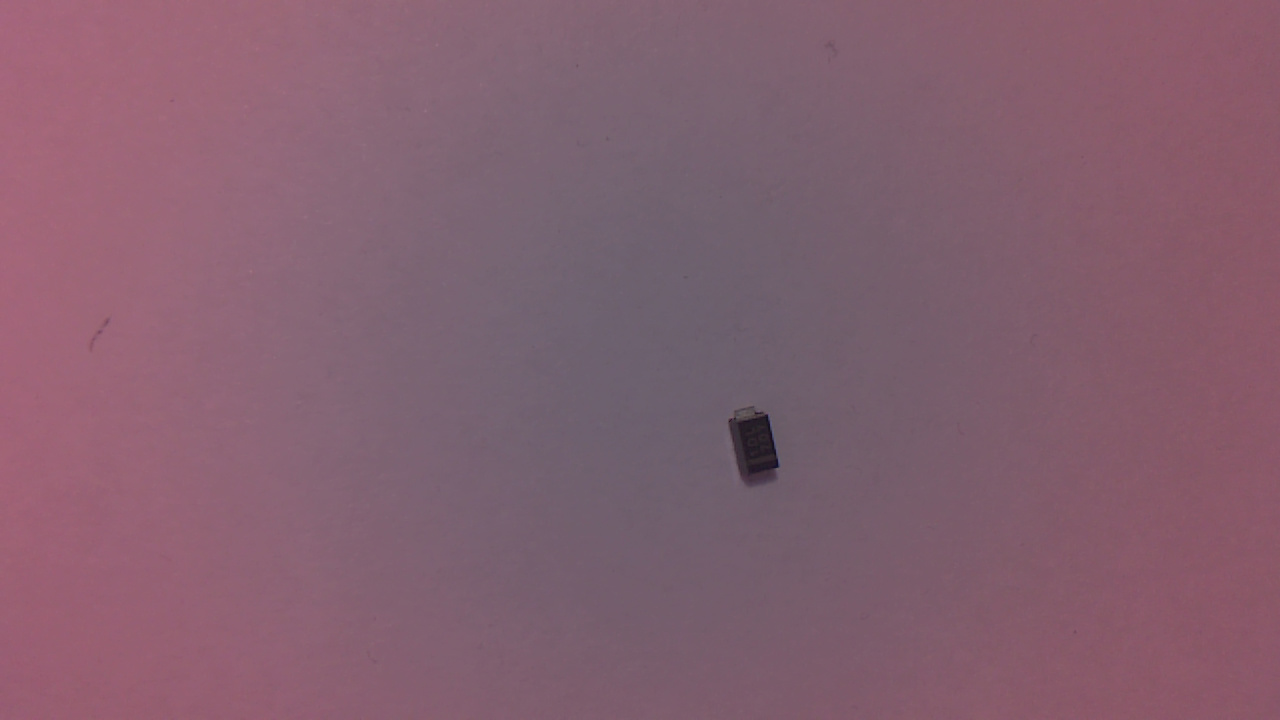Diode: (725, 409, 792, 491)
